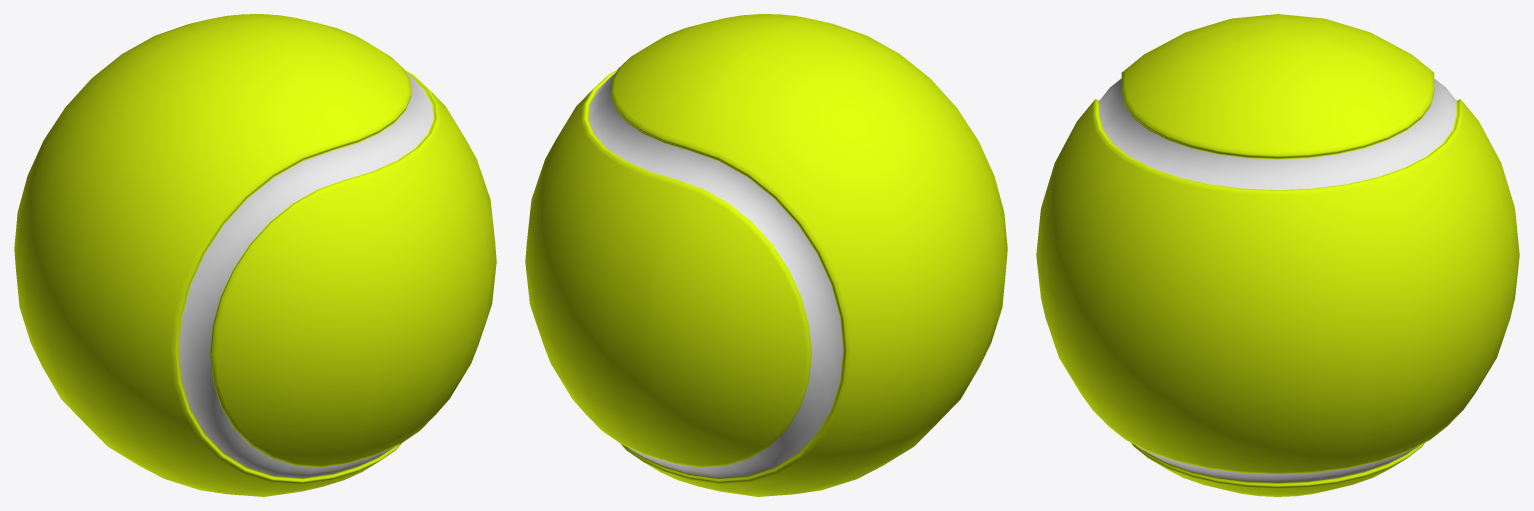
Rendered from Tennis_Ball.glb.
3 renders of one model, left to right at view 1: azimuth 30°, elevation 25°; view 2: azimuth 150°, elevation 25°; view 3: azimuth 270°, elevation 25°, orthographic.
Parts seen in each view (by area): view 1: Sphere; view 2: Sphere; view 3: Sphere.
Part boxes in pixels (x1,y1,x2,y2): Sphere: [14, 14, 496, 496]; Sphere: [525, 14, 1007, 496]; Sphere: [1036, 14, 1519, 496].
Bounding box in the file's own units: 0.0787 × 0.0787 × 0.0787.
